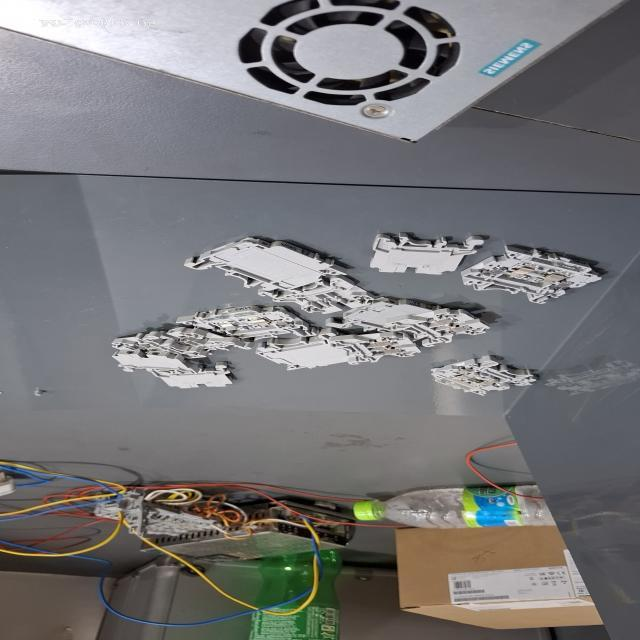Inverted: (356, 230, 484, 276), (104, 350, 199, 378), (149, 362, 242, 390)
Pass: (387, 298, 493, 348), (323, 334, 423, 366)
